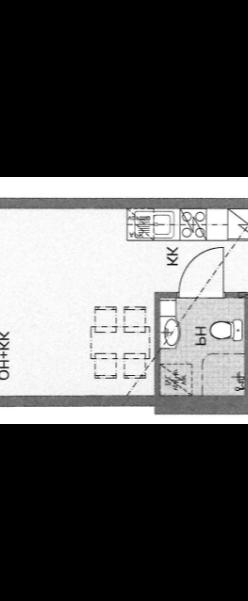door: (174, 245, 226, 303)
